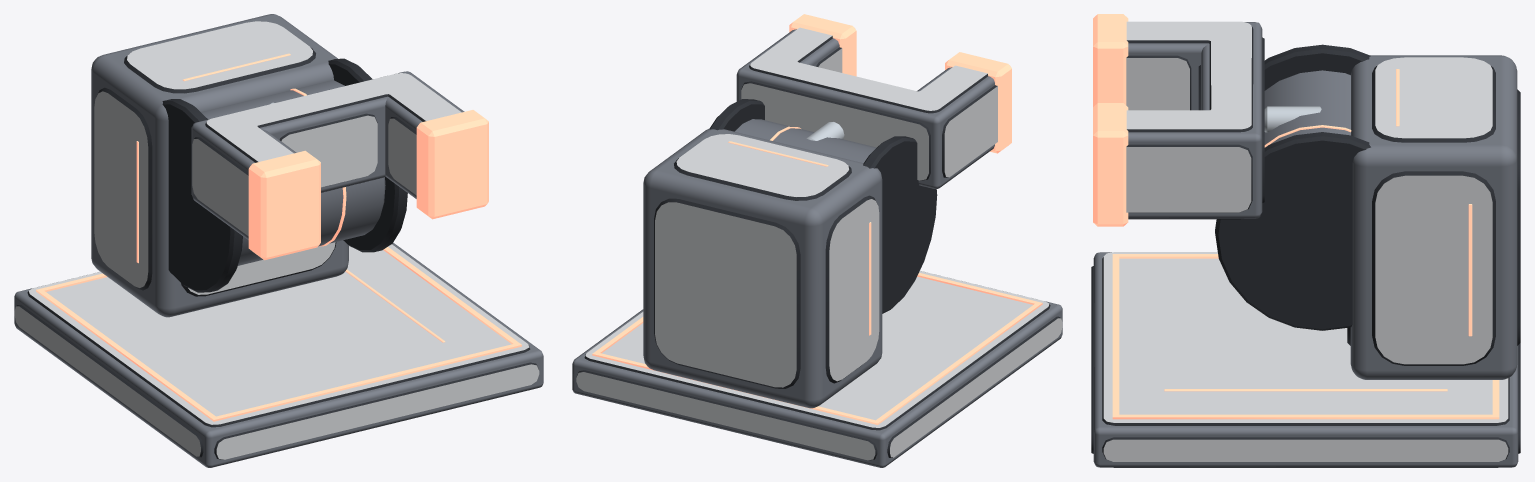
The model's file is R4X_MagneticGrapple.fbx.
The picture shows the model from 3 angles, left to right: view 1: azimuth 30°, elevation 25°; view 2: azimuth 150°, elevation 25°; view 3: azimuth 270°, elevation 25°; orthographic projection. The views are drawn at different scales.
Visible parts, largest first — view 1: R4X_MagneticGrapple_Body; view 2: R4X_MagneticGrapple_Body; view 3: R4X_MagneticGrapple_Body.
Part boxes in pixels (box(x1,y1,x2,y2)): R4X_MagneticGrapple_Body: box(14, 14, 543, 467); R4X_MagneticGrapple_Body: box(572, 14, 1062, 467); R4X_MagneticGrapple_Body: box(1091, 14, 1520, 467).
Bounding box in the file's own units: 0.52 × 0.414 × 0.52.
